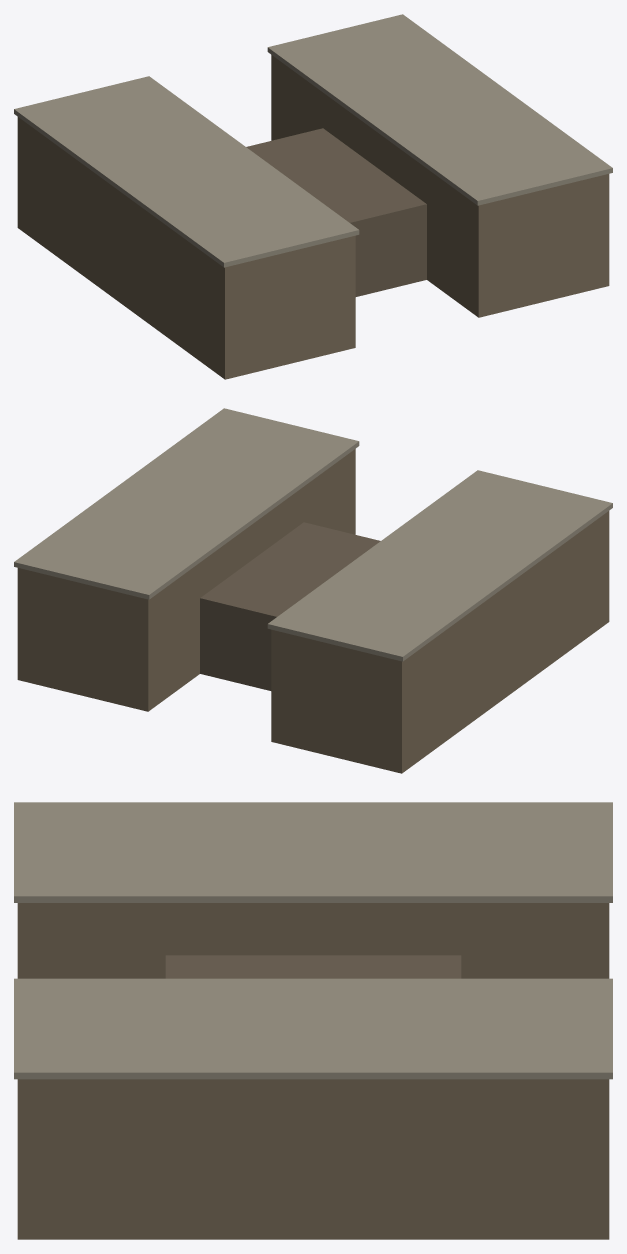
Rendered from zoo-a03394.glb.
The picture shows the model from 3 angles, top to bottom: view 1: azimuth 30°, elevation 25°; view 2: azimuth 150°, elevation 25°; view 3: azimuth 270°, elevation 25°; orthographic projection. The views are drawn at different scales.
Visible parts, largest first — view 1: zoo_a03394; view 2: zoo_a03394; view 3: zoo_a03394.
Part boxes in pixels (x1=…): zoo_a03394: x1=14, y1=14, x2=612, y2=379; zoo_a03394: x1=14, y1=408, x2=612, y2=773; zoo_a03394: x1=14, y1=802, x2=612, y2=1239.
Bounding box in the file's own units: 17.2 × 5 × 16.1.
